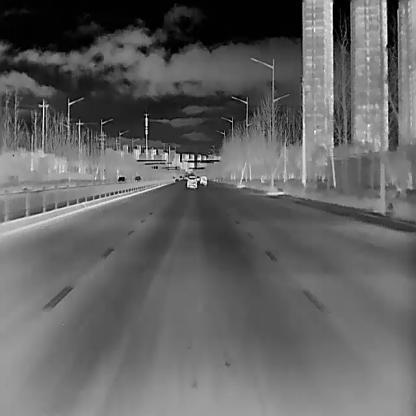car: (186, 174, 196, 188), (199, 174, 206, 184), (117, 175, 126, 182), (134, 175, 140, 180)
